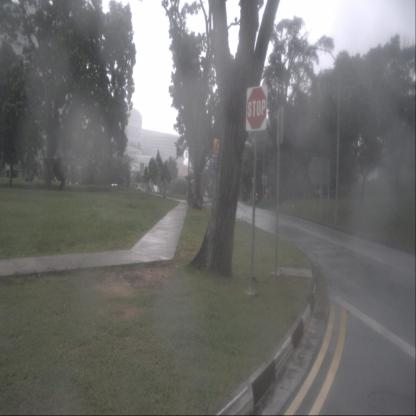vehicle-bicycle: (193, 194, 207, 212)
